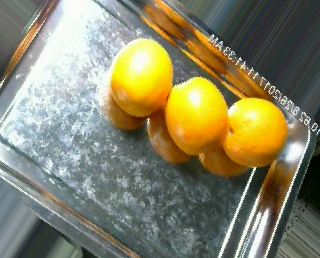Orange: (110, 38, 173, 116), (222, 95, 289, 168), (167, 74, 228, 154)
